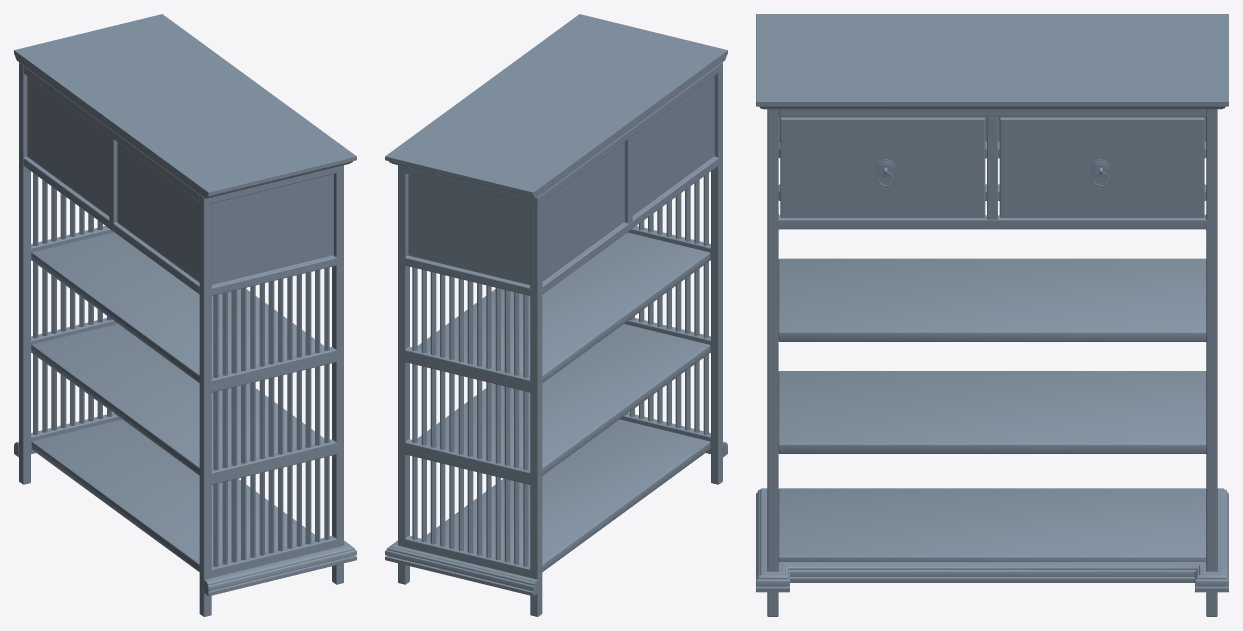
The model's file is cabinet-005.glb.
The picture shows the model from 3 angles, left to right: view 1: azimuth 30°, elevation 25°; view 2: azimuth 150°, elevation 25°; view 3: azimuth 270°, elevation 25°; orthographic projection. The views are drawn at different scales.
Parts seen in each view (by area): view 1: rak_buku; view 2: rak_buku; view 3: rak_buku.
Boxes of the visible parts, x1,y1,x2,y2 form: rak_buku: (14,14,356,616); rak_buku: (385,14,727,616); rak_buku: (756,14,1228,616).
Size of the model in its own units: 0.37 by 1.02 by 0.84.
